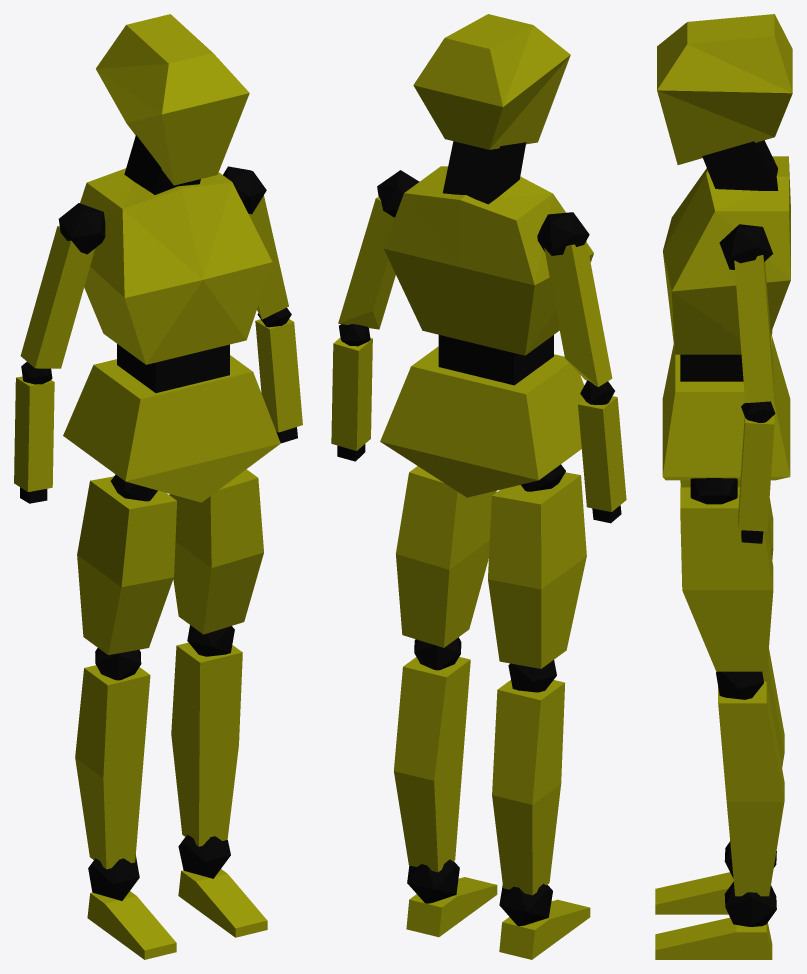
Rendered from player.obj.
The picture shows the model from 3 angles, left to right: view 1: azimuth 30°, elevation 25°; view 2: azimuth 150°, elevation 25°; view 3: azimuth 270°, elevation 25°; orthographic projection. The views are drawn at different scales.
Bounding box in the file's own units: 0.8191 × 2.51 × 0.3464.
